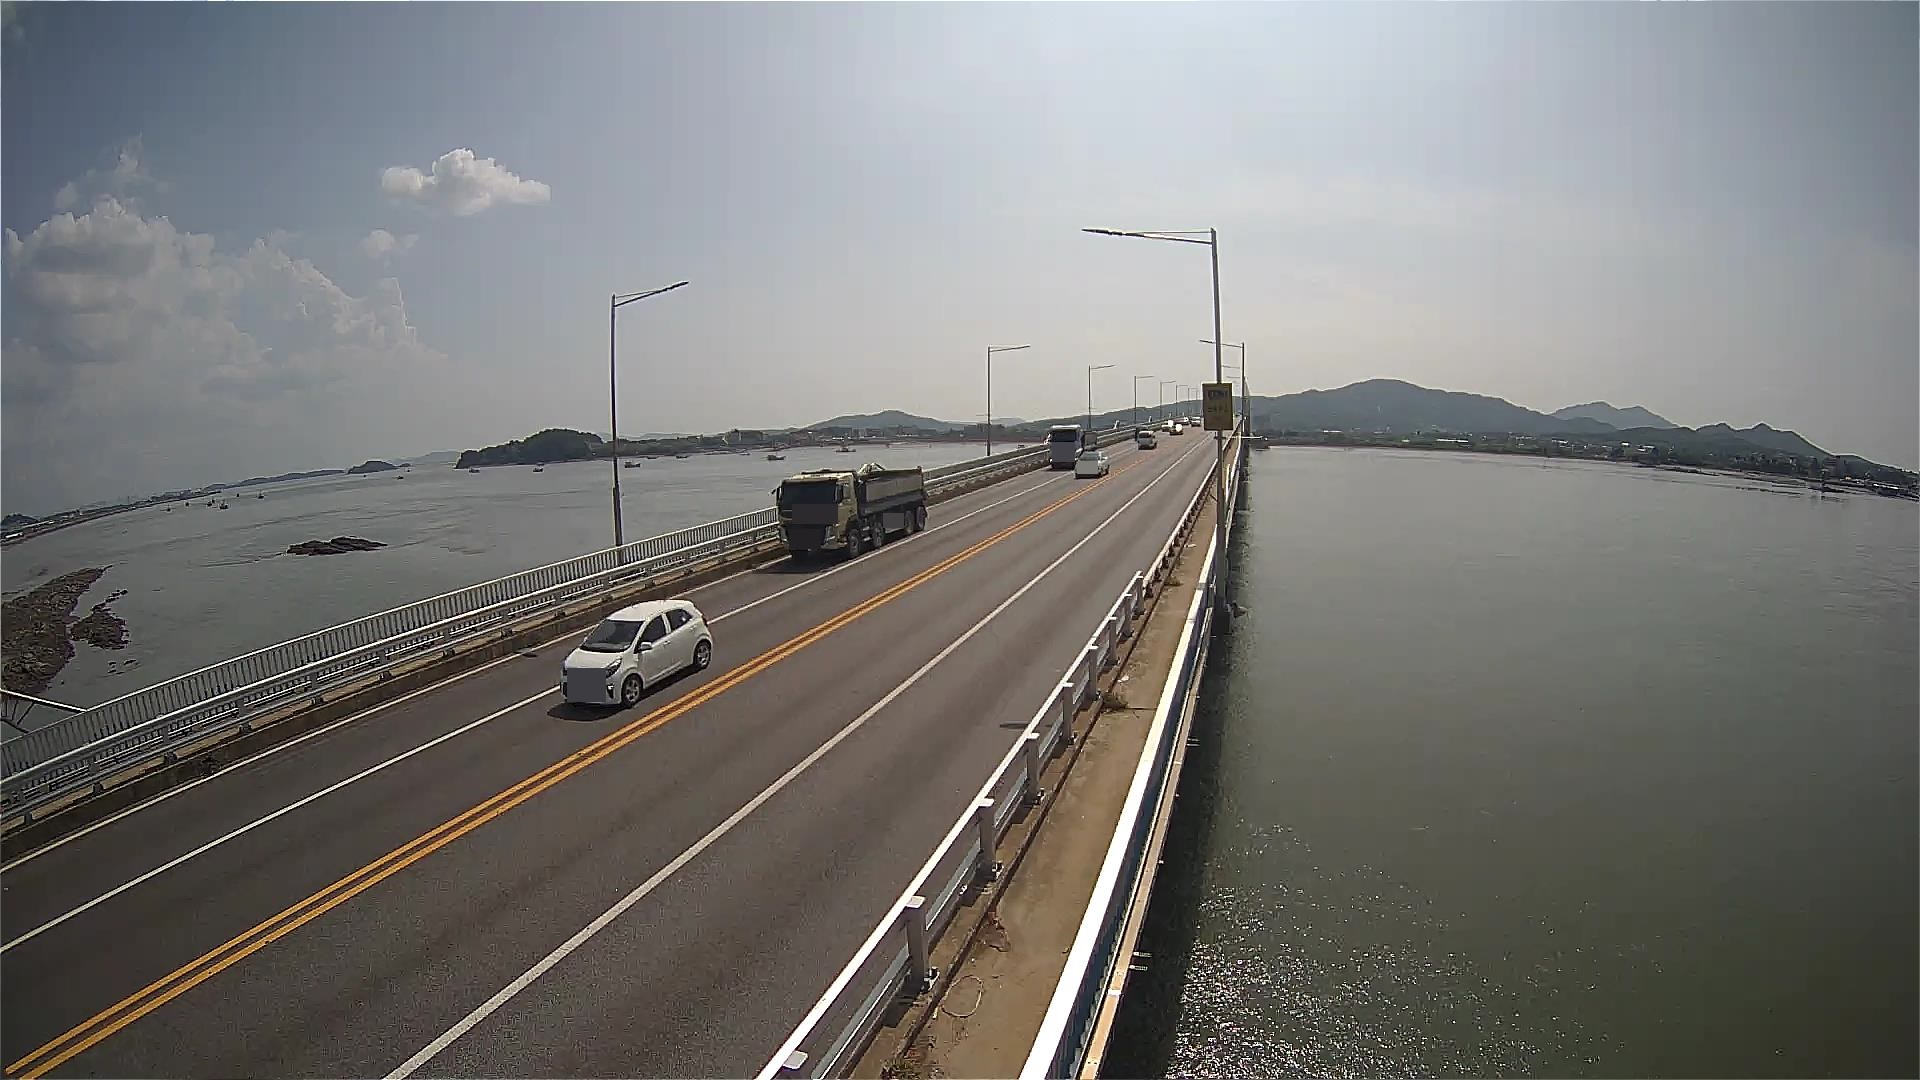정상차량: (770, 462, 930, 558)
